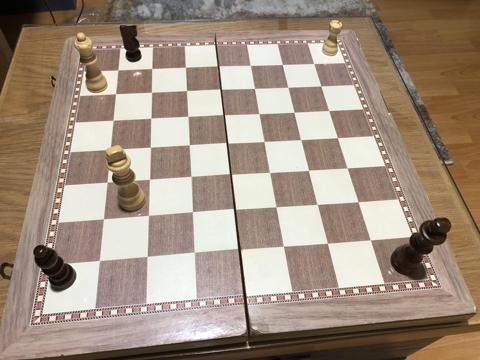xcorner: (277, 60, 289, 73), (245, 61, 257, 74), (179, 63, 192, 75), (111, 65, 124, 77), (215, 85, 227, 98), (323, 107, 336, 119), (254, 109, 266, 122), (182, 112, 194, 125), (296, 135, 308, 148), (221, 139, 234, 151), (341, 164, 354, 176), (303, 166, 316, 178), (225, 170, 237, 183), (184, 173, 197, 185), (186, 208, 198, 221), (142, 211, 154, 224), (141, 252, 153, 265), (309, 60, 321, 72), (213, 62, 225, 74), (146, 64, 158, 76), (316, 82, 328, 94), (283, 83, 295, 95), (249, 84, 261, 96), (181, 87, 193, 99), (145, 88, 157, 100), (109, 89, 121, 101), (289, 108, 301, 120), (218, 111, 230, 123), (145, 114, 157, 126), (107, 116, 119, 128), (332, 134, 344, 146), (259, 137, 271, 149), (183, 141, 195, 153), (144, 143, 156, 155), (104, 145, 116, 157), (265, 168, 277, 180), (143, 175, 155, 187), (101, 178, 113, 190), (352, 197, 364, 209), (312, 200, 324, 212), (271, 203, 283, 215), (229, 206, 241, 218), (97, 215, 109, 227), (364, 235, 376, 247), (322, 238, 334, 250), (278, 242, 290, 254), (234, 245, 246, 257), (188, 249, 200, 261), (93, 256, 105, 268)
